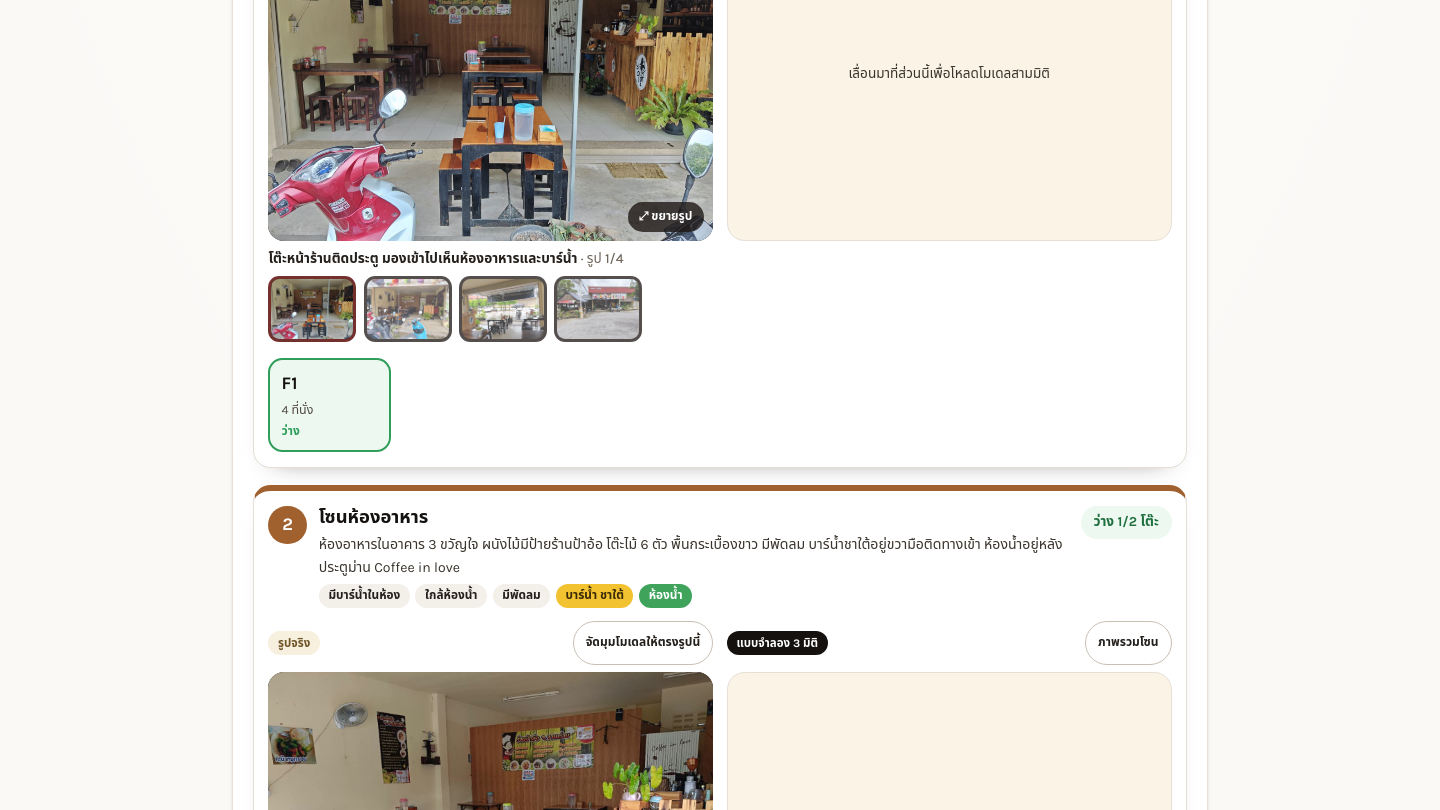
หน้าจองโต๊ะของลูกค้า (3 ขั้นตอน) › เลือกโต๊ะแล้วสรุปและยืนยัน — ส่ง tableId ที่เลือกไปจองจริง
(page scrolled)
Click the button with aria-label "โต๊ะ F1 " at (330, 405), box [268,358,391,452]
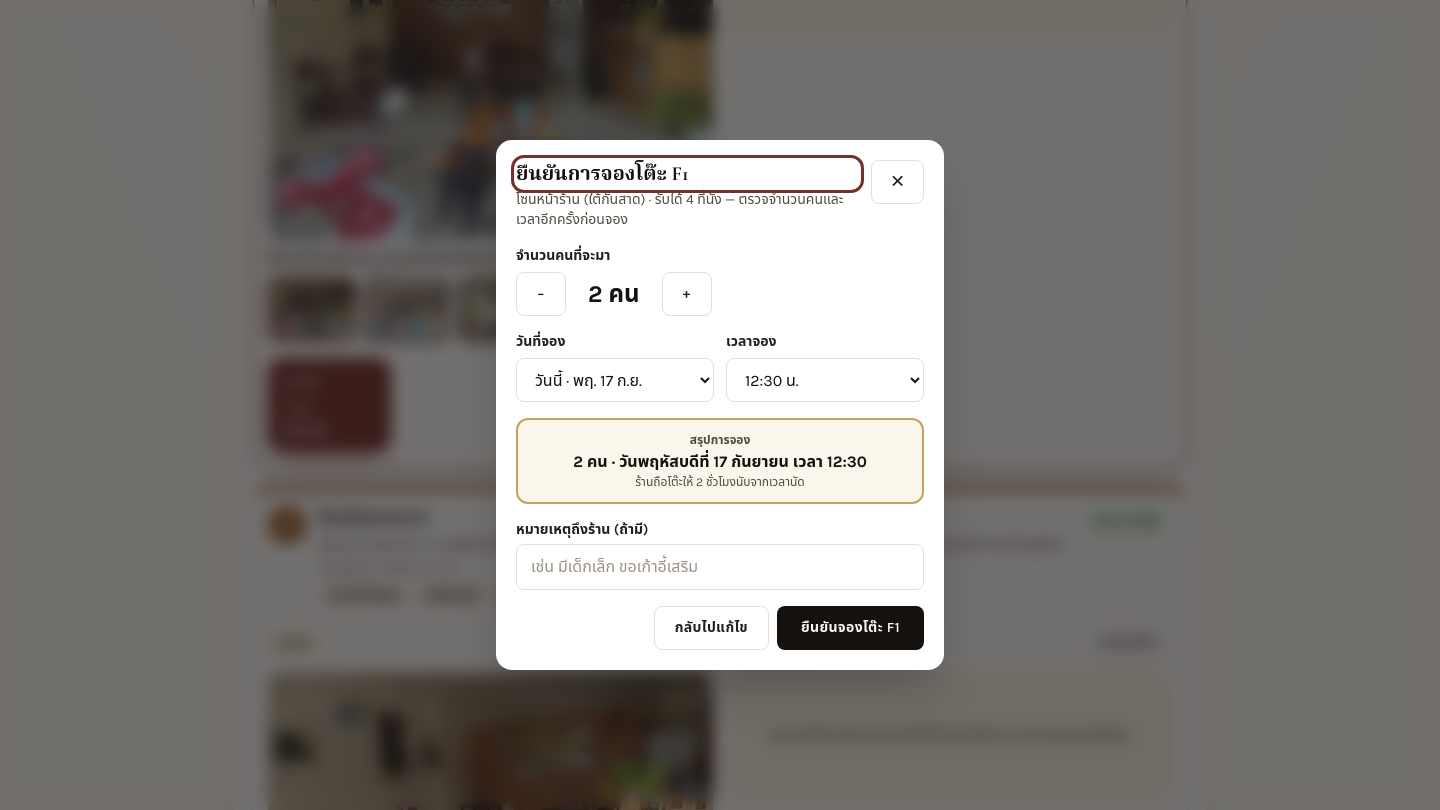
Expected: the text "2 คน" is shown, [588,280,640,308]
Expected: the dropdown labelled "เวลาจอง" shows "12:30 น.", [726,358,924,402]
Expected: the text "2 คน · " is shown, [573,452,867,471]
Type "มีเด็กเล็ก" into the field labelled "หมายเหตุถึงร้าน (ถ้ามี)" at (720, 567), box [516,544,924,590]
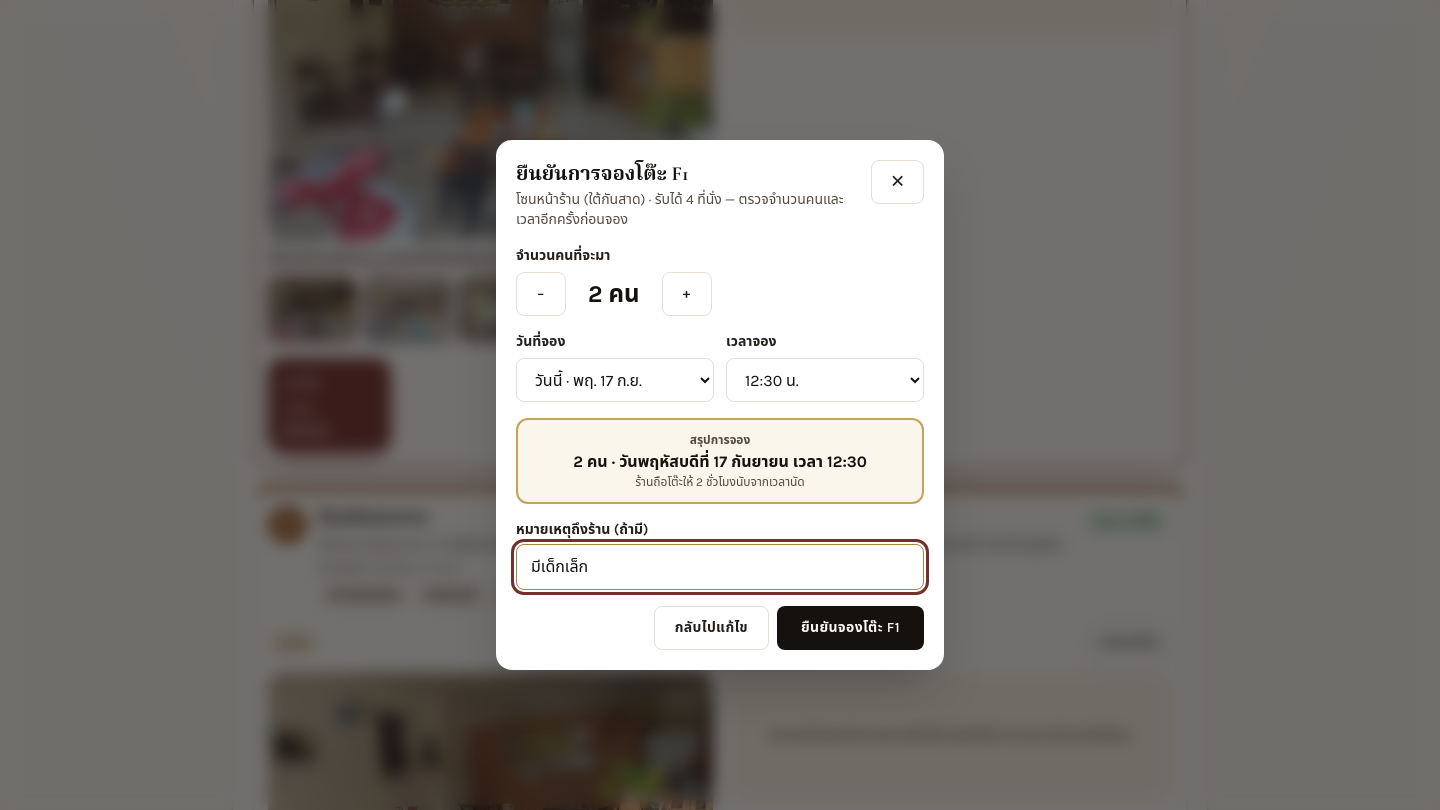
Click the button "ยืนยันจองโต๊ะ F1" at (850, 628), box [777,606,924,650]
(page scrolled)
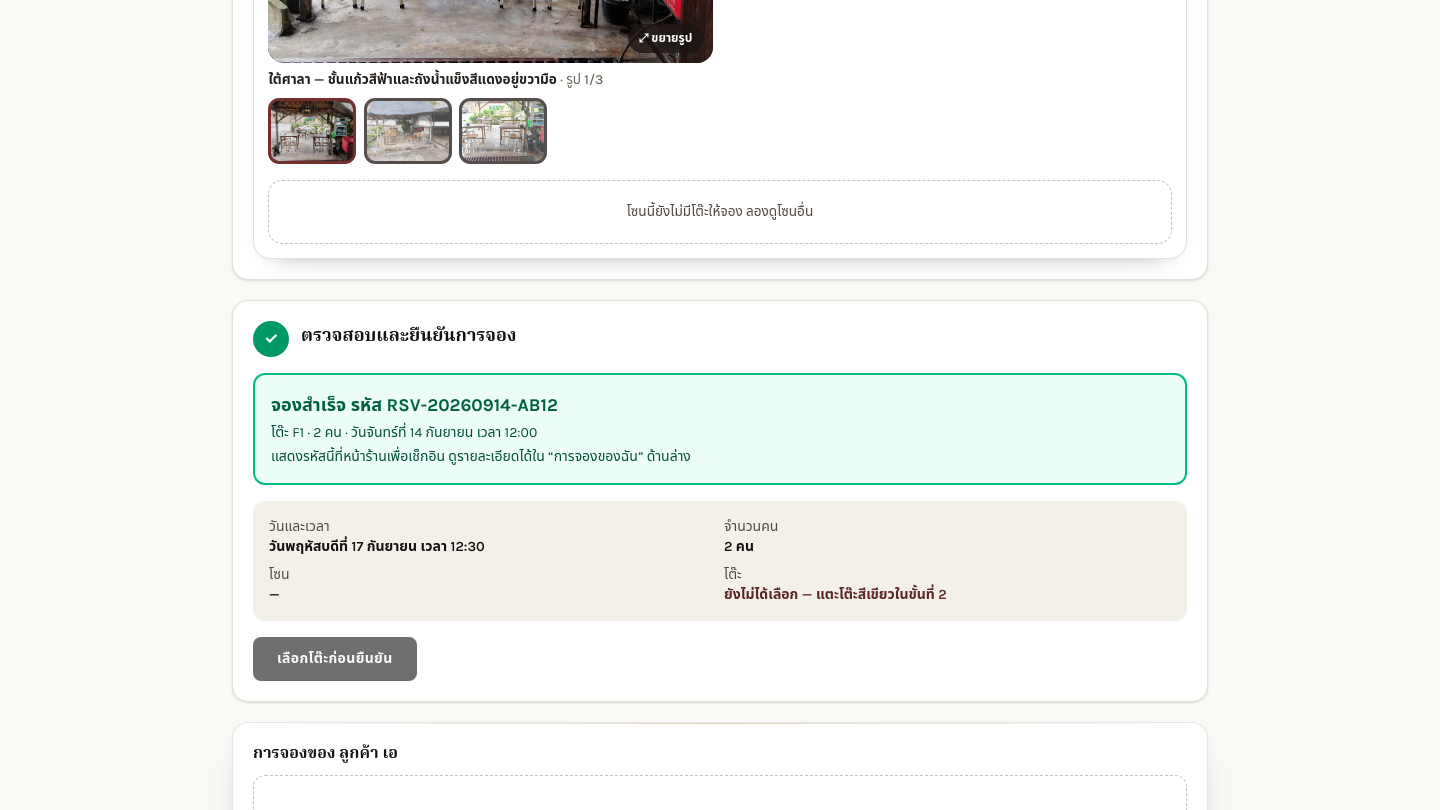
Expected: the text "จองสำเร็จ รหัส RSV-20260914-AB12" is shown, [271,394,558,416]
Expected: the dialog is gone
